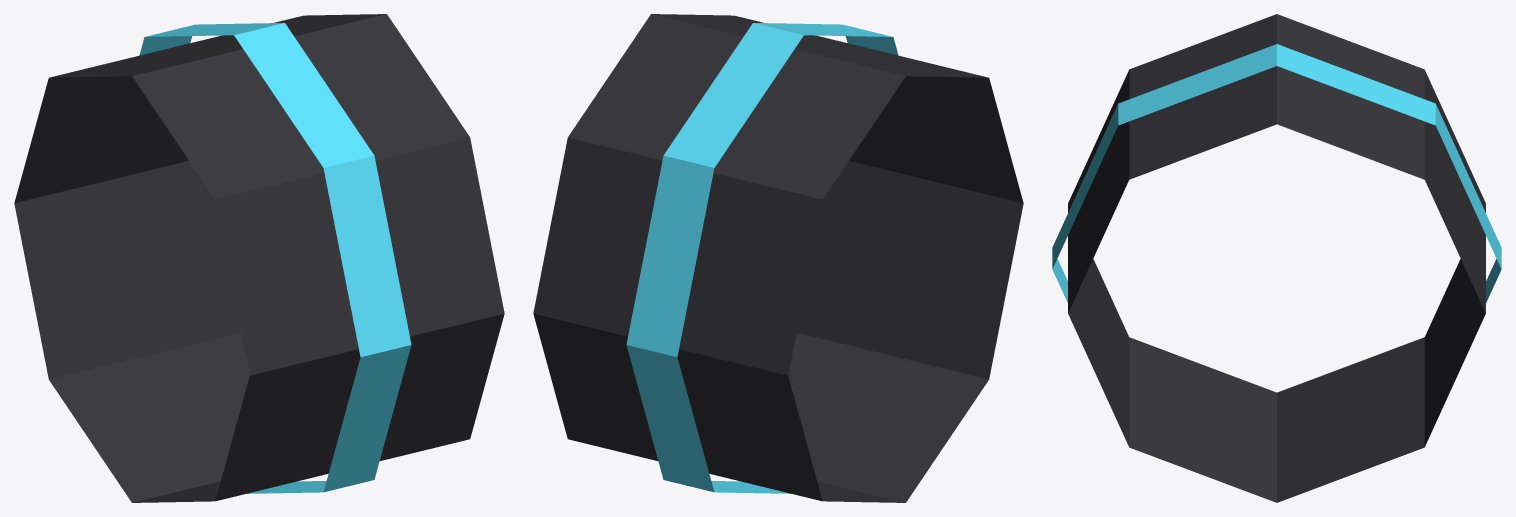
Rendered from acc_wrist_band.glb.
3 renders of one model, left to right at view 1: azimuth 30°, elevation 25°; view 2: azimuth 150°, elevation 25°; view 3: azimuth 270°, elevation 25°, orthographic. The views are drawn at different scales.
Visible parts, largest first — view 1: acc_wrist_band; view 2: acc_wrist_band; view 3: acc_wrist_band.
Boxes of the visible parts, <box> form: acc_wrist_band: <box>14,14,504,502</box>; acc_wrist_band: <box>533,14,1023,502</box>; acc_wrist_band: <box>1052,14,1501,502</box>.
Bounding box in the file's own units: 0.05 × 0.086 × 0.086.
2 materials, 2 textured.
